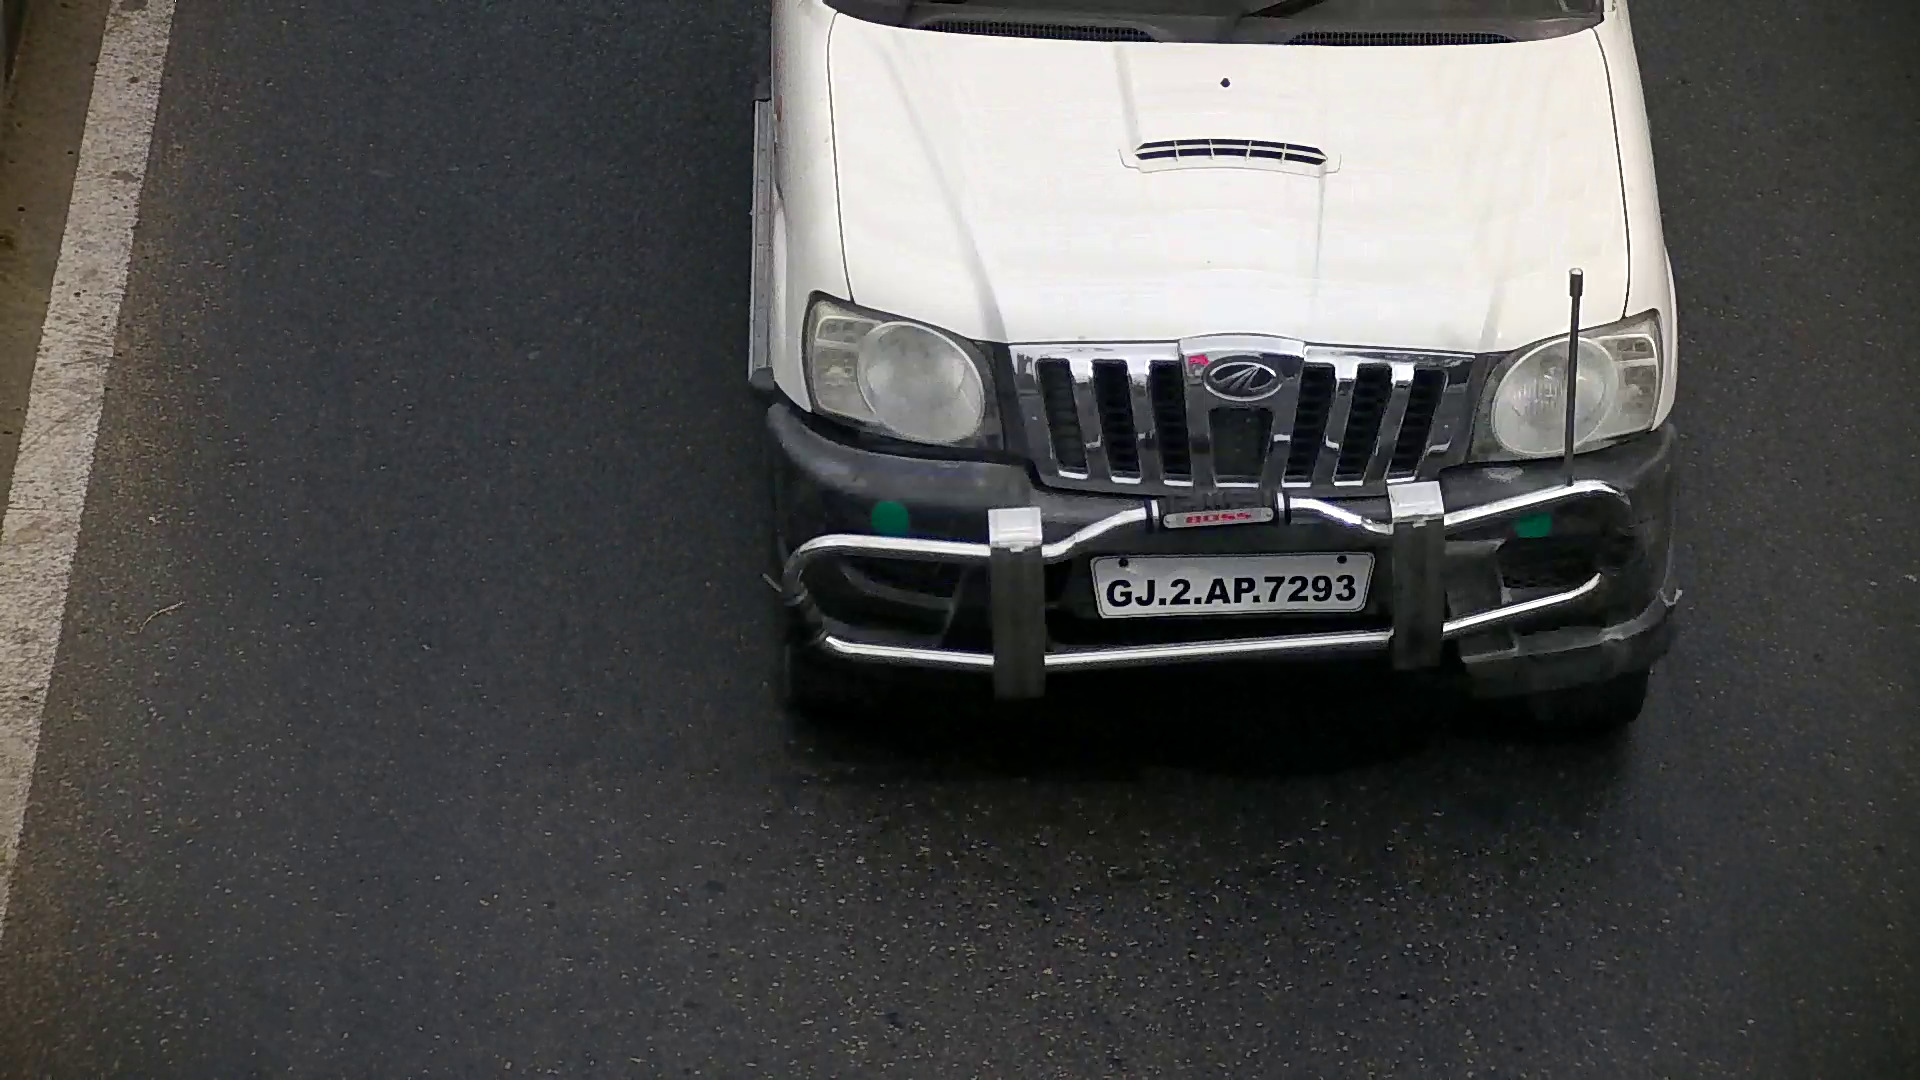numberplate: (1087, 548, 1373, 623)
